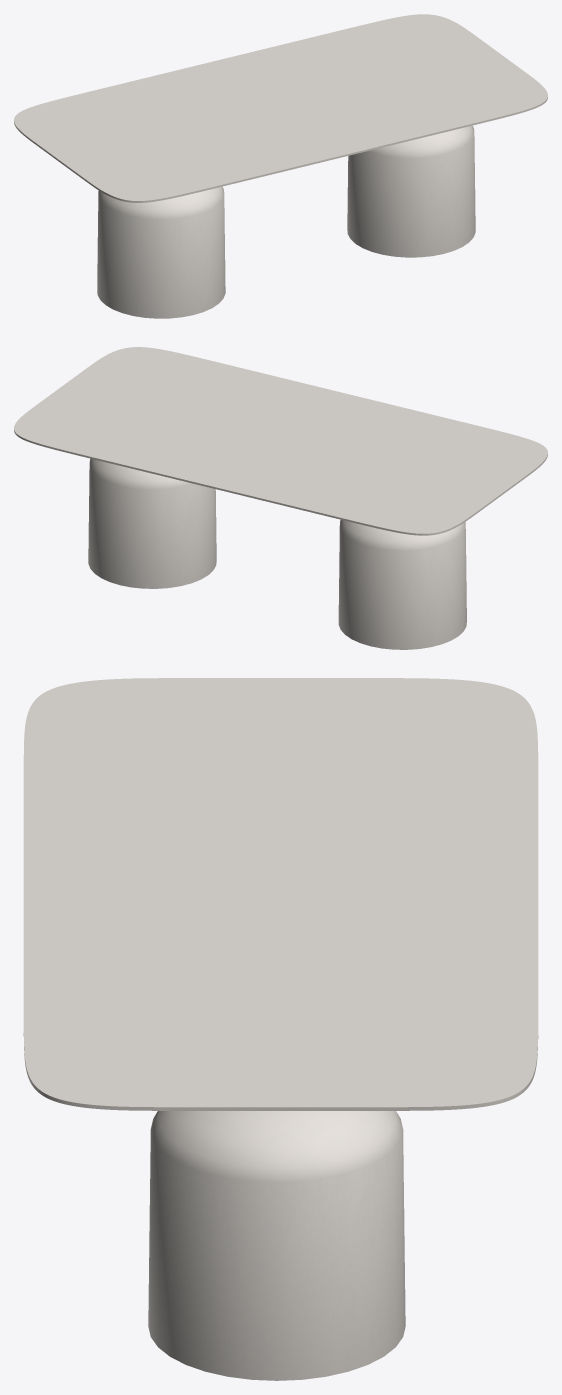
File: purewhite_softrecta_facet_tornado.glb
The picture shows the model from 3 angles, top to bottom: view 1: azimuth 30°, elevation 25°; view 2: azimuth 150°, elevation 25°; view 3: azimuth 270°, elevation 25°; orthographic projection. The views are drawn at different scales.
Parts seen in each view (by area): view 1: facet_softrecta, tornado; view 2: facet_softrecta, tornado; view 3: facet_softrecta, tornado.
Part boxes in pixels (<box>): facet_softrecta: <box>14,14,547,202</box>; tornado: <box>97,125,475,318</box>; facet_softrecta: <box>14,347,547,535</box>; tornado: <box>88,458,466,649</box>; facet_softrecta: <box>23,678,538,1110</box>; tornado: <box>148,1111,405,1380</box>.
Bounding box in the file's own units: 7.5 × 2.5 × 3.8.
Materials: 1 (1 with a texture image).
